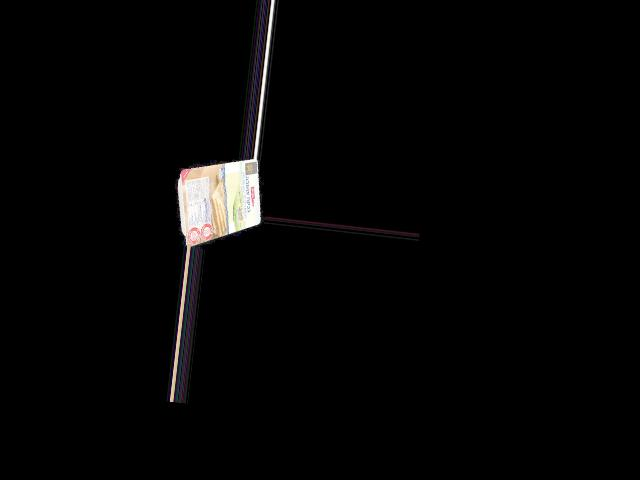cheese: (174, 159, 265, 239)
